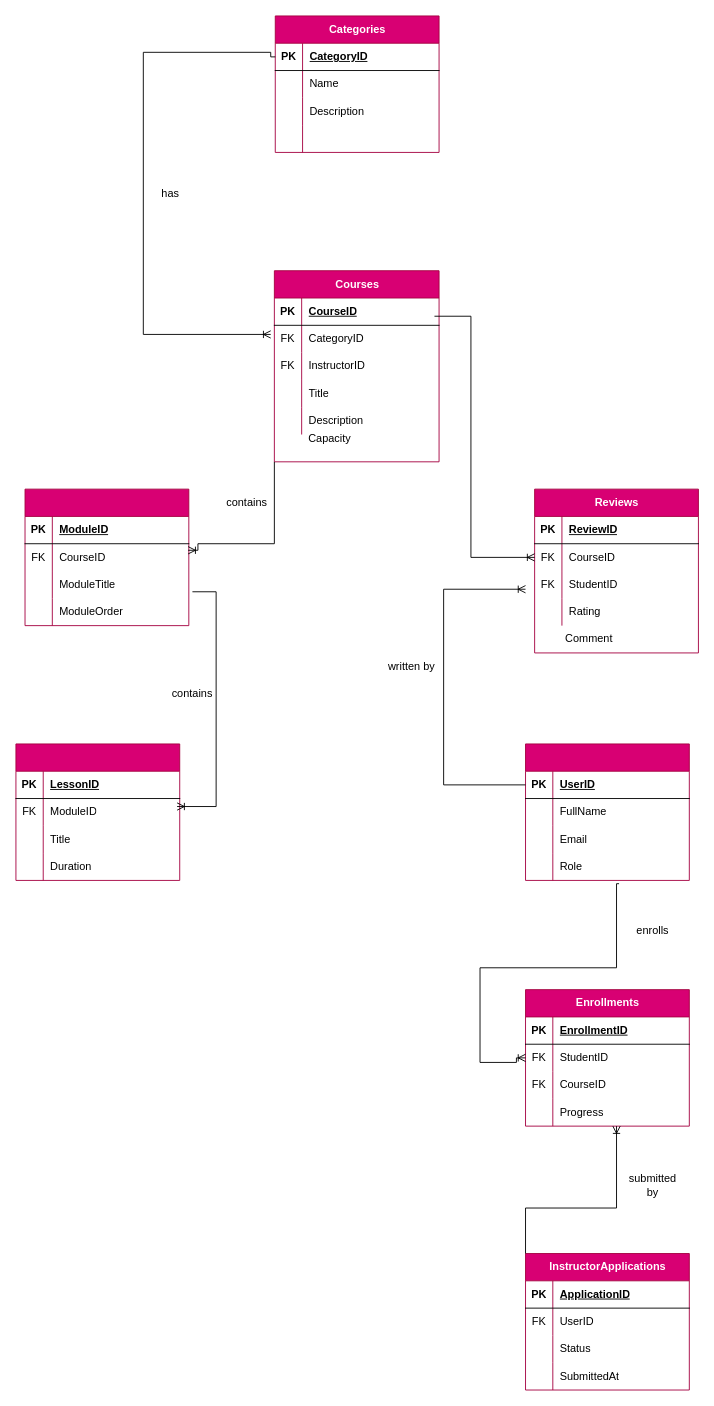
The diagram is 714 pixels wide and 1406 high, and some of its shapes have lost their labels. Each missing label, with the box of its shape:
Lessons: (15, 743, 180, 880)
Modules: (24, 488, 189, 626)
Users: (525, 743, 689, 880)
